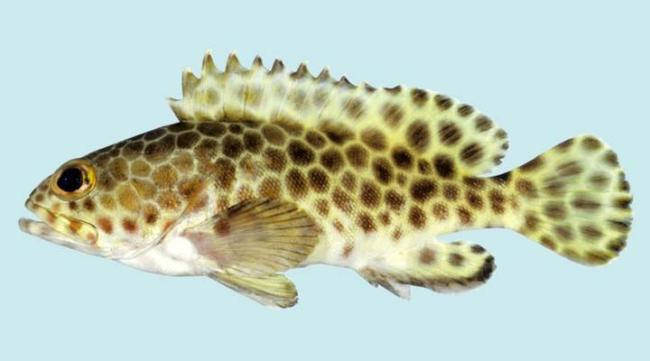fish: (18, 47, 634, 310)
